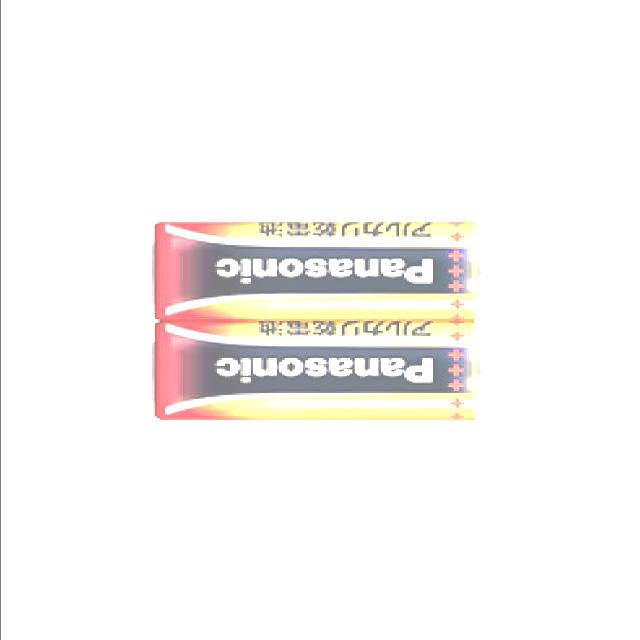AA: (150, 316, 496, 424), (152, 218, 498, 324)
